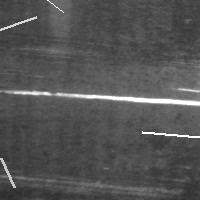scratches: (2, 82, 199, 107), (33, 175, 180, 197), (0, 0, 68, 17), (137, 127, 200, 144), (0, 12, 41, 37), (0, 153, 19, 192)
